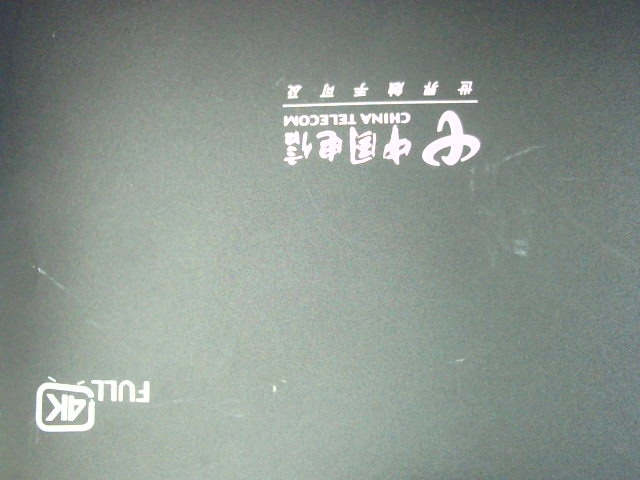AB_ChinaTelecom: (273, 69, 498, 167)
